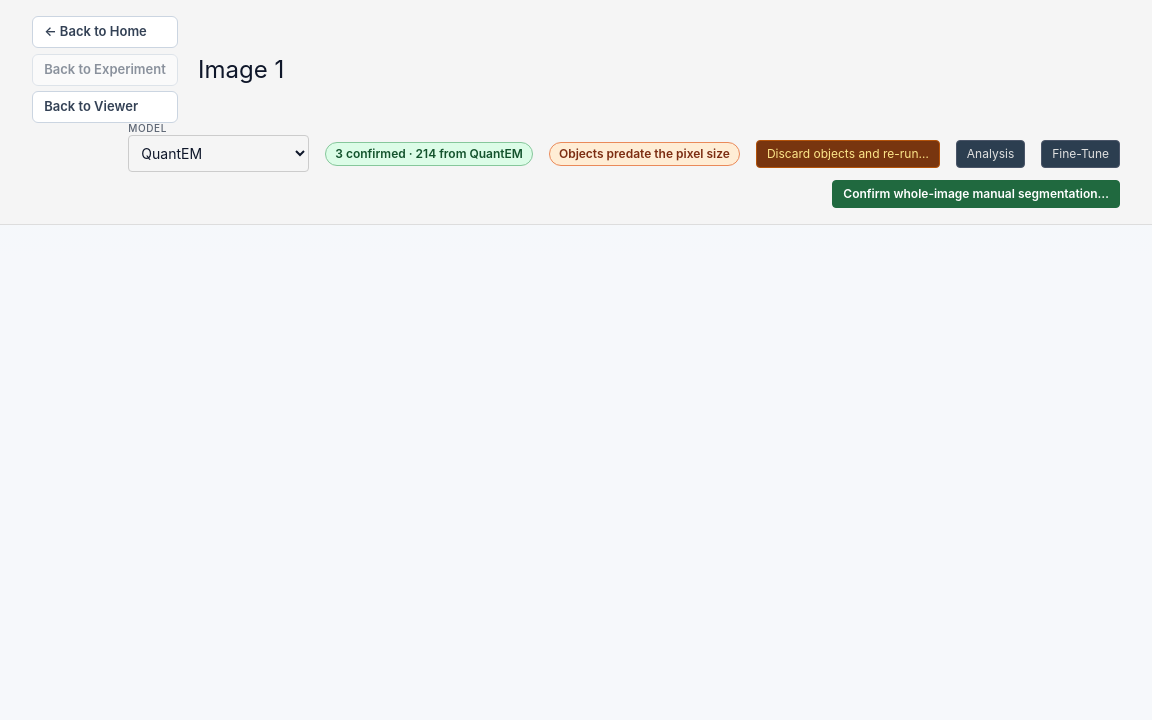
Test: SegmentationHeader › discard-and-re-run recovery for calibrated-after-the-fact › clears and re-runs only after the confirmation
The image size is (1152, 720).
Click the button with test id "clear-rerun-button".
click(848, 154)  # box [756,140,940,168]
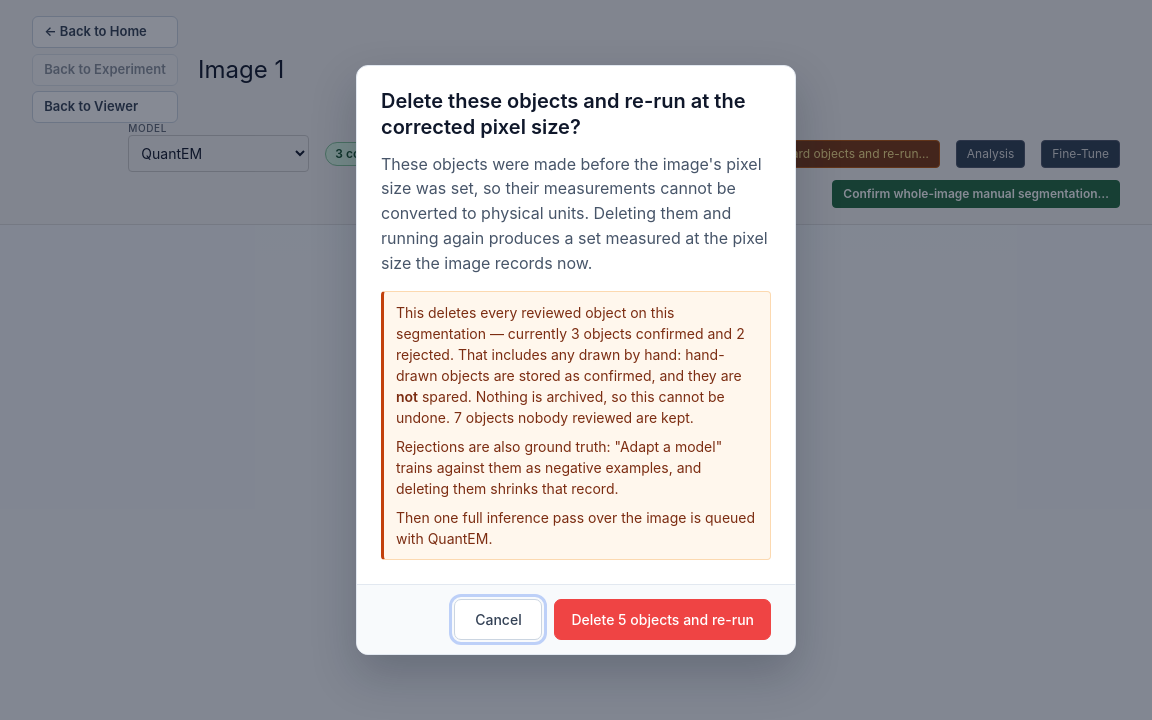
Click the button "Delete 5 objects and re-run".
click(663, 620)  # box [554,600,771,640]
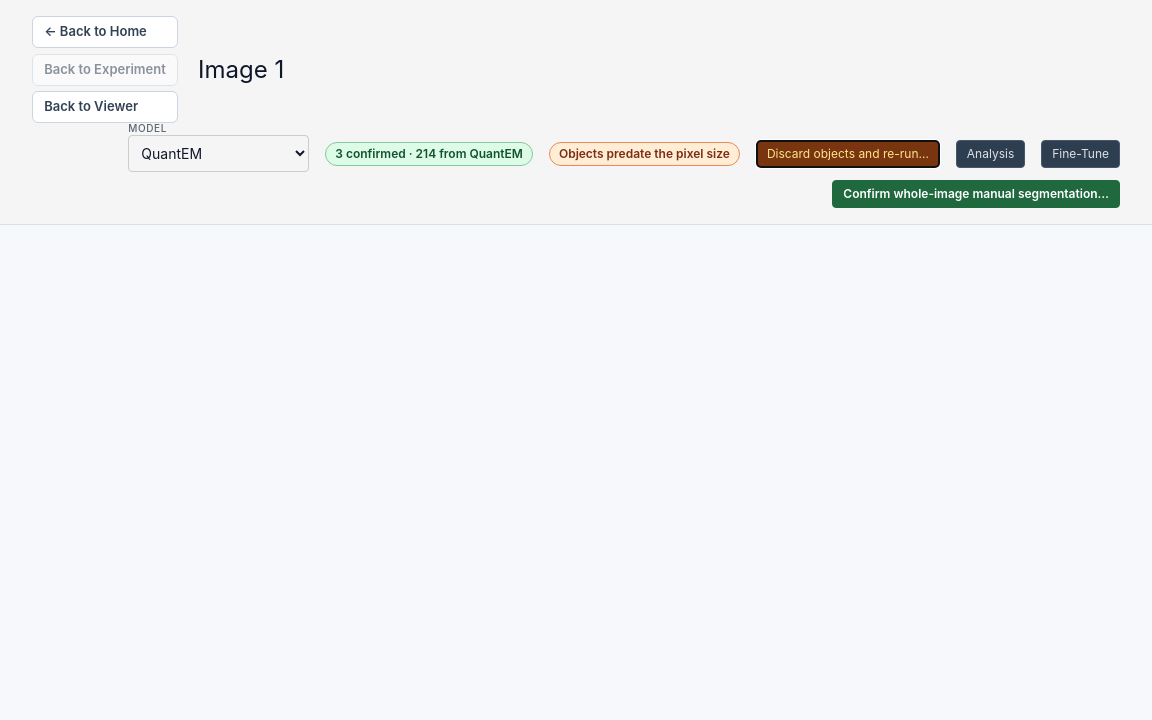
expect the dialog is gone: met
